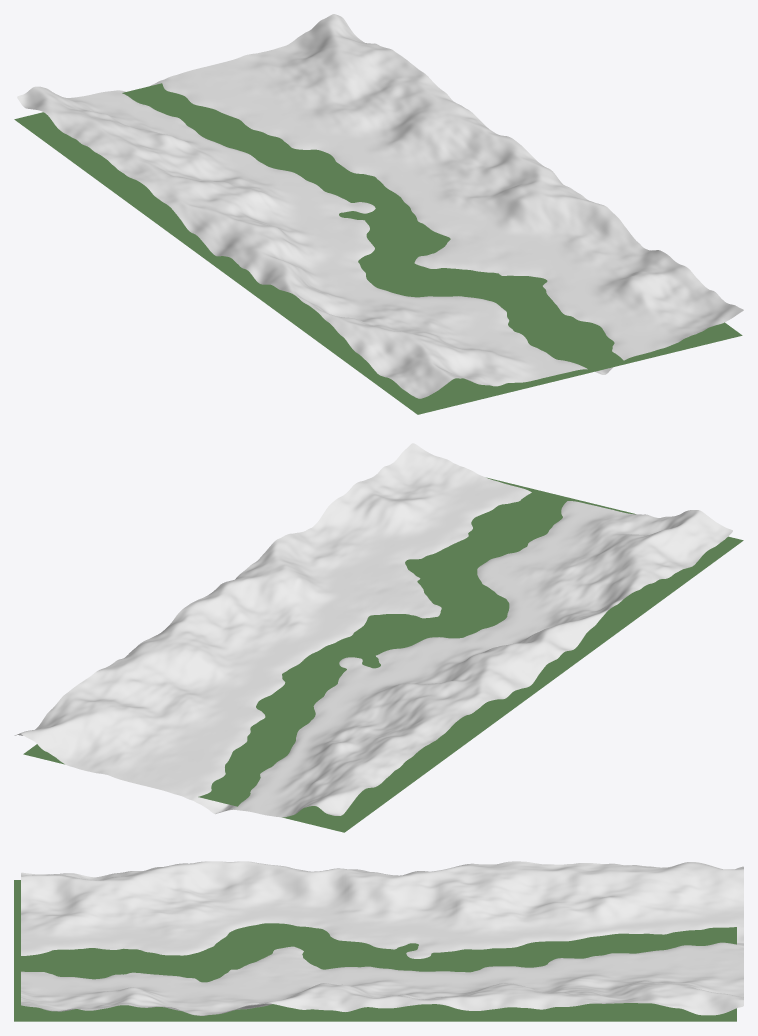
The model's file is River.fbx.
3 views of the same model, one above another, from view 1: azimuth 30°, elevation 25°; view 2: azimuth 150°, elevation 25°; view 3: azimuth 270°, elevation 25° (orthographic). The views are drawn at different scales.
Parts seen in each view (by area): view 1: Ground, river; view 2: Ground, river; view 3: Ground, river.
Part boxes in pixels (x1=…): Ground: x1=17, y1=14, x2=743, y2=398; river: x1=14, y1=83, x2=742, y2=414; Ground: x1=14, y1=443, x2=732, y2=817; river: x1=23, y1=477, x2=743, y2=832; Ground: x1=21, y1=861, x2=743, y2=1015; river: x1=14, y1=880, x2=736, y2=1021.
Size of the model in its own units: 228 by 22.3 by 487.
